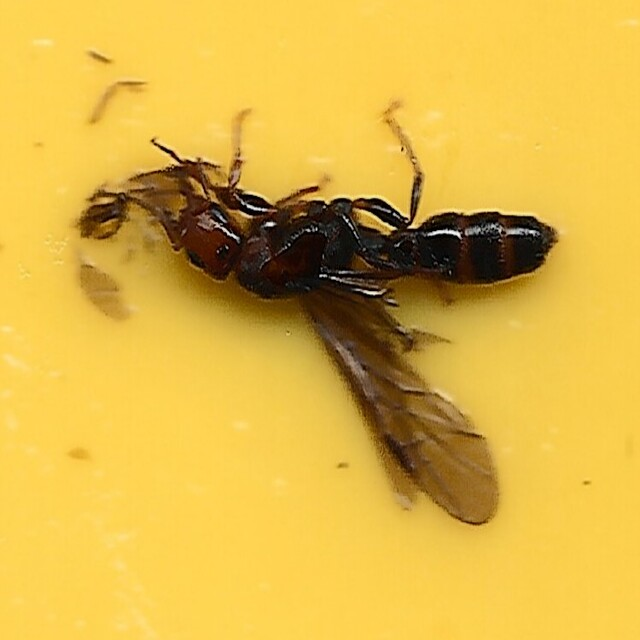Hymenoptera: (85, 113, 555, 527)
